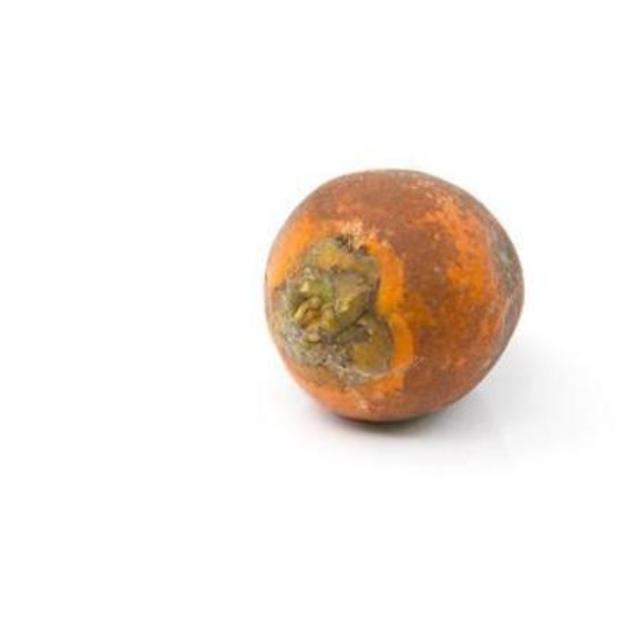good: (263, 170, 525, 424)
